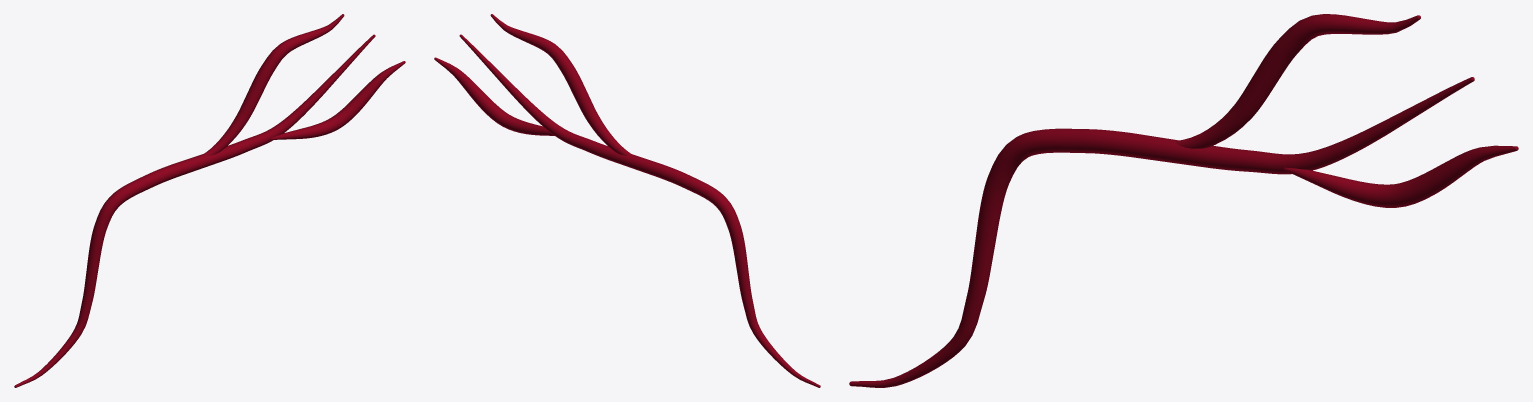
Rendered from nerve.fbx.
3 renders of one model, left to right at view 1: azimuth 30°, elevation 25°; view 2: azimuth 150°, elevation 25°; view 3: azimuth 330°, elevation 25°, orthographic. The views are drawn at different scales.
Visible parts, largest first — view 1: node_id44 (×3); view 2: node_id44 (×3); view 3: node_id44 (×3).
Boxes of the visible parts, x1,y1,x2,y2 form: node_id44 (×3): [14, 14, 405, 387]; node_id44 (×3): [434, 14, 820, 387]; node_id44 (×3): [849, 14, 1518, 387].
Bounding box in the file's own units: 0.7206 × 0.5208 × 0.0299.
